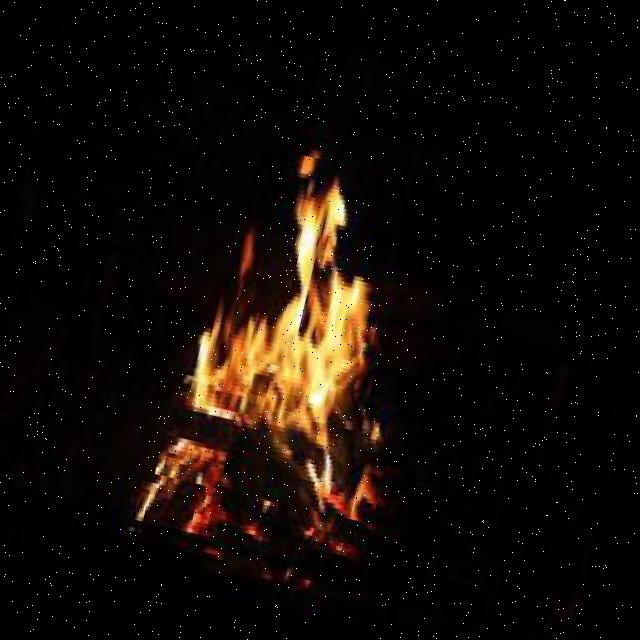fire: (154, 138, 449, 524)
